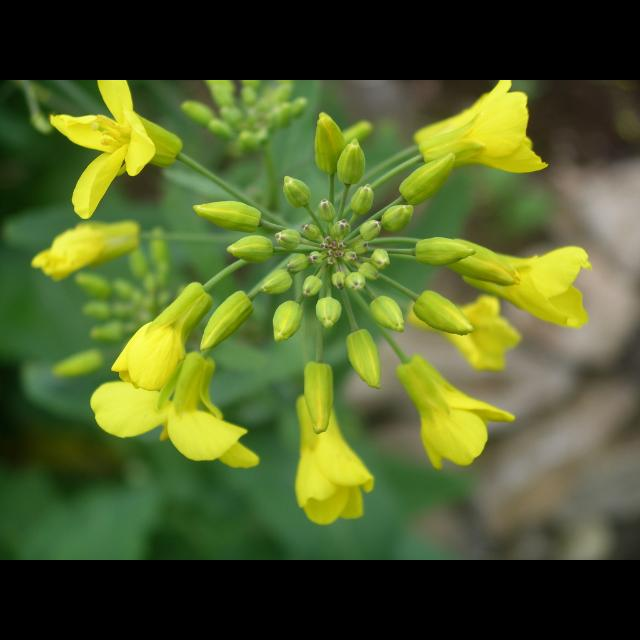Flower: (85, 346, 258, 470), (48, 80, 182, 218), (396, 355, 514, 469), (410, 80, 548, 172), (451, 248, 589, 329), (111, 282, 213, 388), (399, 291, 523, 375), (296, 394, 372, 522), (30, 220, 110, 284)
